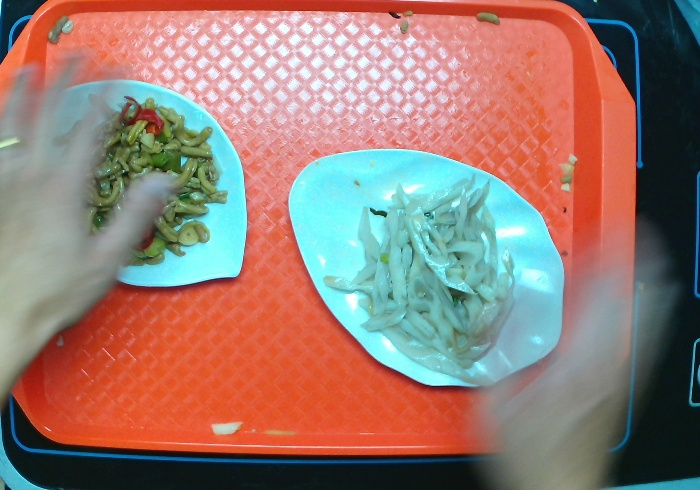RJxy-Bai_Ye_Pan: (283, 144, 567, 394)
RJxy-Da_Du_Pan: (37, 80, 252, 291)
